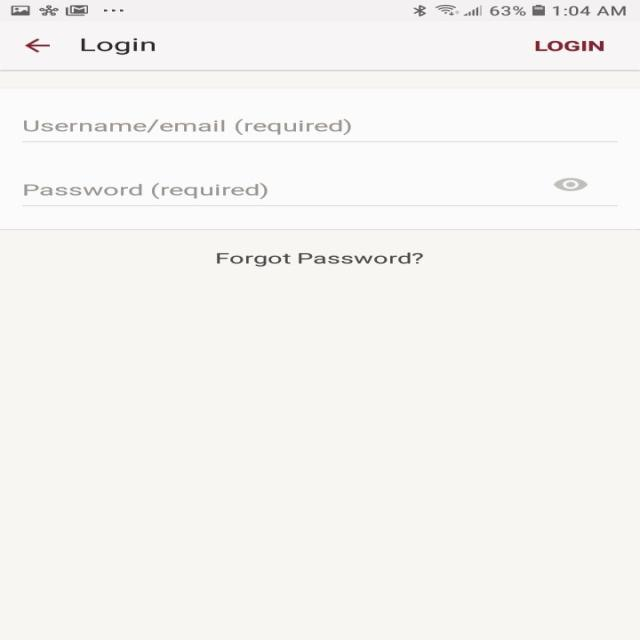EditText: (21, 178, 618, 206), (21, 119, 618, 142)
Icon: (552, 177, 588, 191), (25, 38, 51, 53)
Text: (23, 118, 351, 136), (23, 182, 268, 199), (215, 252, 423, 267), (80, 37, 155, 55), (534, 40, 604, 52)
